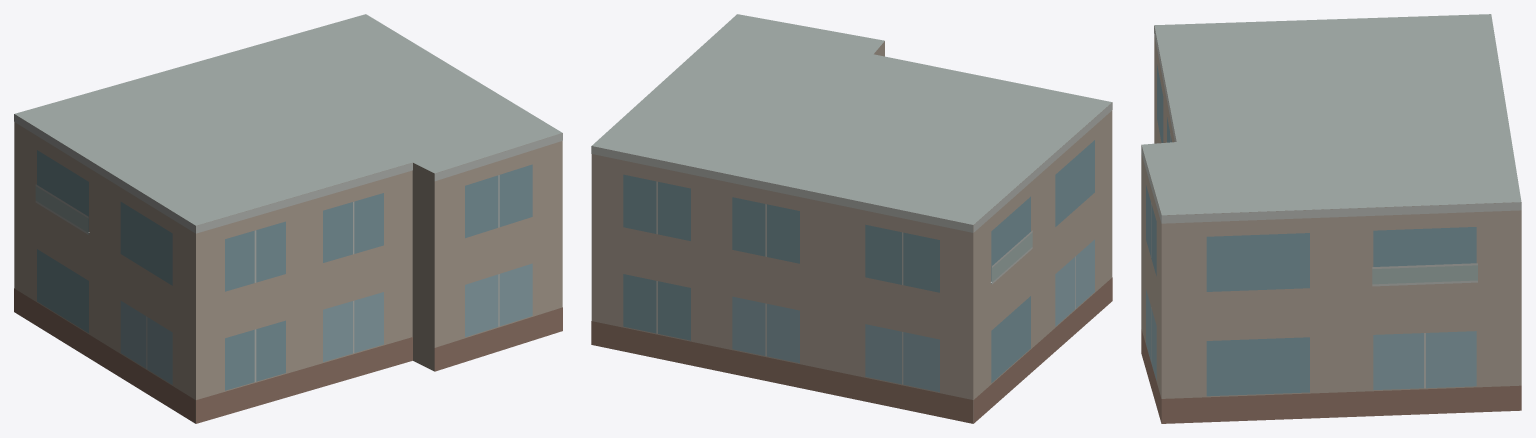
File: survey-upis-32571259.glb
3 views of the same model, side by side, from view 1: azimuth 30°, elevation 25°; view 2: azimuth 150°, elevation 25°; view 3: azimuth 270°, elevation 25° (orthographic). The views are drawn at different scales.
Parts seen in each view (by area): view 1: survey-upis-32571259.tmp; view 2: survey-upis-32571259.tmp; view 3: survey-upis-32571259.tmp.
Part boxes in pixels (x1,y1,x2,y2): survey-upis-32571259.tmp: (14,14,562,423); survey-upis-32571259.tmp: (591,14,1112,423); survey-upis-32571259.tmp: (1141,14,1521,423).
Bounding box in the file's own units: 12.64 × 6.1 × 10.09.
